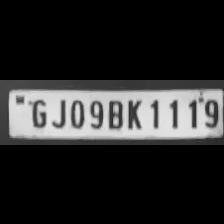0: (66, 96, 86, 128)
1: (162, 96, 182, 128), (182, 96, 200, 128), (146, 96, 162, 130)
9: (200, 95, 220, 127), (86, 96, 104, 128)
B: (104, 96, 124, 130)
G: (27, 95, 47, 127)
J: (49, 95, 67, 127)
K: (124, 96, 144, 130)
